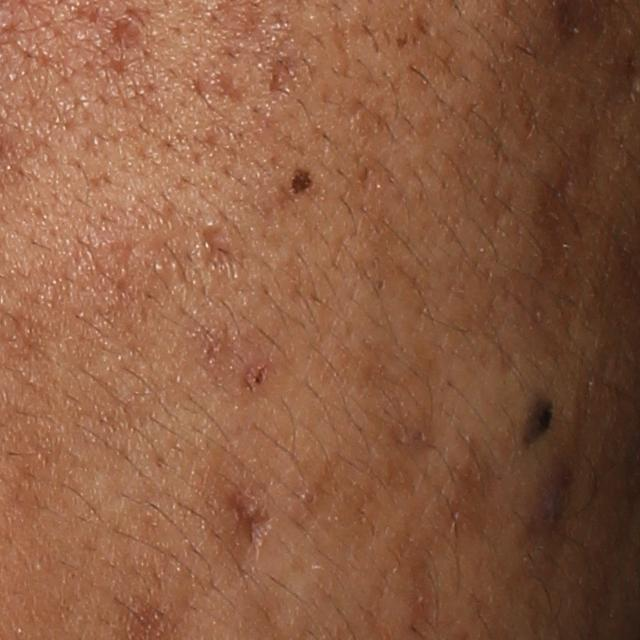atrophic_scar: (525, 68, 640, 358), (223, 495, 270, 563), (209, 59, 251, 103), (102, 13, 147, 52)
nevus: (519, 384, 559, 446), (288, 167, 318, 196)
